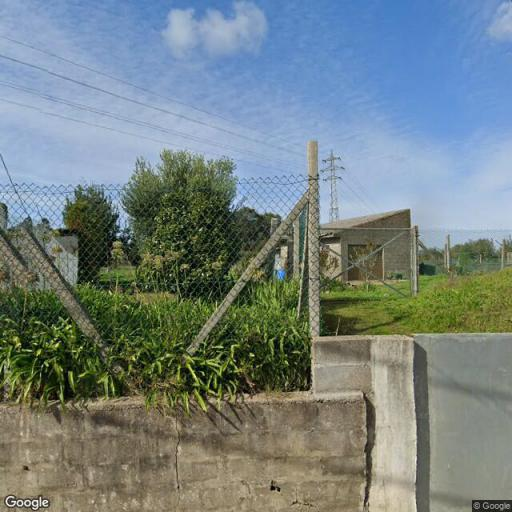ss_3: (321, 147, 349, 223)
